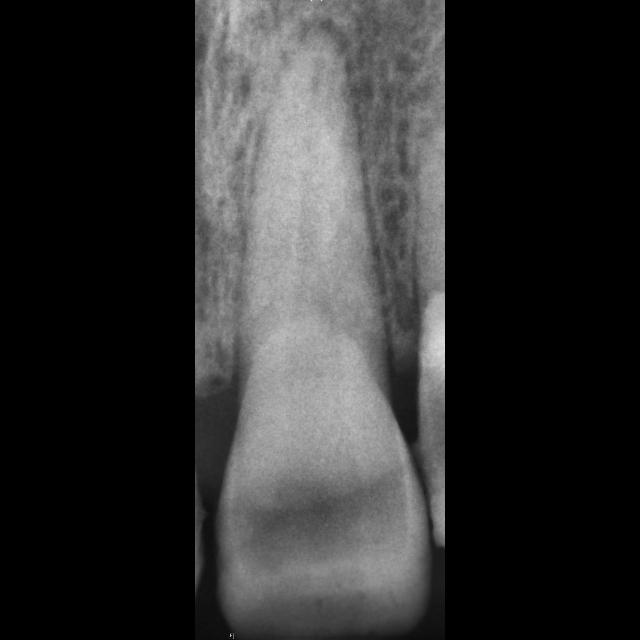tooth: (216, 19, 431, 640)
